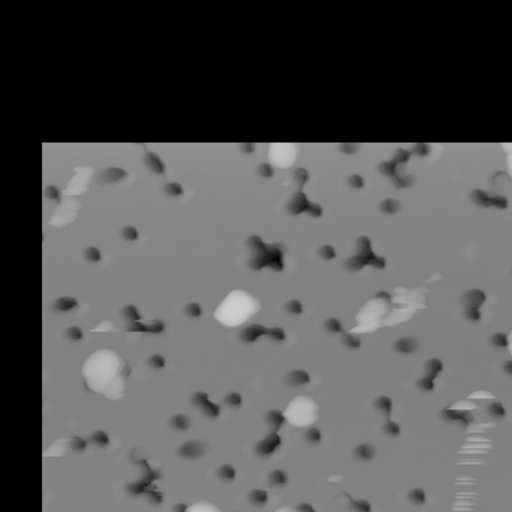Hole: (374, 142, 442, 194), (234, 227, 291, 276), (121, 448, 162, 503), (342, 230, 386, 274), (253, 408, 286, 460), (279, 188, 324, 222), (452, 285, 492, 323), (370, 388, 400, 433), (237, 322, 285, 348), (469, 184, 511, 211), (177, 432, 213, 463), (323, 317, 359, 347), (189, 384, 220, 418), (91, 164, 140, 185), (417, 355, 444, 393), (333, 490, 376, 511), (137, 147, 168, 176), (50, 285, 81, 311), (342, 169, 371, 195), (159, 176, 190, 197), (377, 193, 402, 219), (310, 234, 334, 261), (246, 484, 272, 507), (353, 440, 380, 462), (285, 364, 316, 383), (407, 483, 429, 509), (393, 332, 420, 353), (83, 242, 104, 267), (92, 425, 111, 452), (216, 459, 238, 482), (220, 386, 242, 408), (439, 407, 473, 421), (61, 319, 82, 341), (145, 351, 168, 371), (169, 413, 193, 432), (185, 294, 203, 319), (304, 425, 323, 446), (267, 465, 289, 483), (233, 142, 263, 155), (300, 499, 332, 511), (336, 142, 360, 157), (287, 295, 304, 315), (124, 228, 145, 244), (73, 433, 88, 455), (253, 162, 273, 178), (487, 330, 507, 345), (488, 404, 507, 419), (122, 299, 138, 316), (149, 321, 168, 334), (294, 167, 309, 183), (505, 239, 511, 276), (501, 358, 511, 377), (129, 323, 144, 333)
Particle: (80, 345, 130, 402), (209, 288, 261, 327), (43, 196, 85, 230), (282, 397, 322, 428), (264, 142, 301, 169), (503, 317, 511, 369), (505, 142, 511, 186)
Smear: (385, 280, 433, 325), (347, 295, 387, 331), (61, 154, 95, 196), (186, 499, 299, 511), (459, 433, 492, 455), (178, 496, 226, 511), (47, 430, 70, 460), (465, 384, 499, 402), (90, 314, 117, 334), (463, 420, 492, 435), (325, 469, 348, 487), (444, 397, 477, 409), (132, 311, 158, 325), (453, 458, 484, 469), (454, 474, 478, 487), (454, 490, 483, 500), (426, 268, 445, 282), (445, 503, 478, 511), (152, 506, 187, 511), (449, 498, 477, 504), (447, 510, 472, 511)
